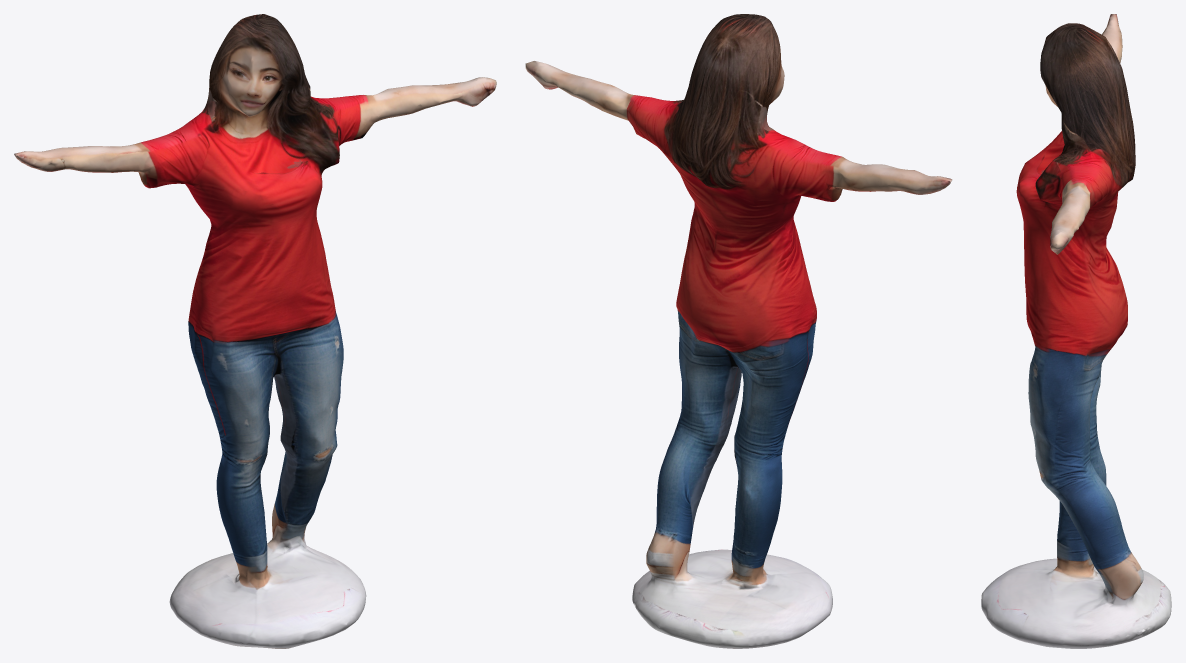
The picture shows the model from 3 angles, left to right: view 1: azimuth 30°, elevation 25°; view 2: azimuth 150°, elevation 25°; view 3: azimuth 270°, elevation 25°; orthographic projection. The views are drawn at different scales.
Bounding box in the file's own units: 0.933 × 1.2 × 0.3472.
1 material, 1 textured.
